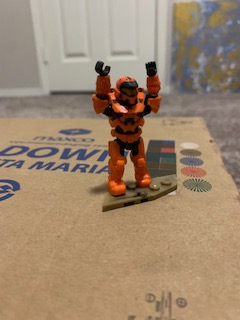spartan: (89, 58, 164, 197)
up: (91, 58, 163, 135)
